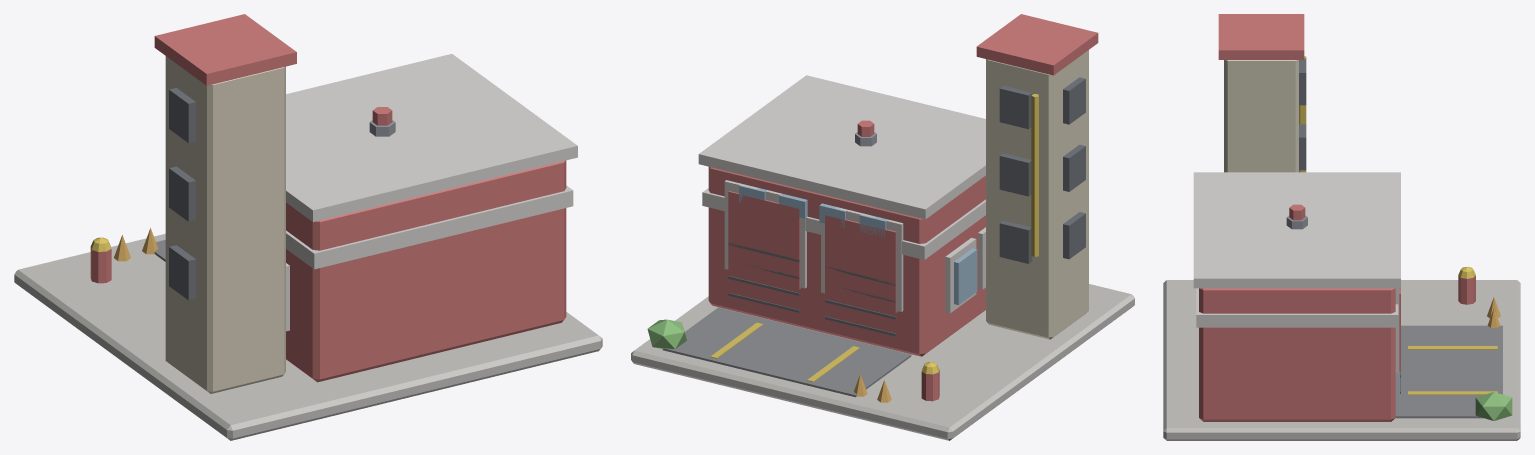
The model's file is publicos__bombeiros.glb.
3 renders of one model, left to right at view 1: azimuth 30°, elevation 25°; view 2: azimuth 150°, elevation 25°; view 3: azimuth 270°, elevation 25°, orthographic. The views are drawn at different scales.
Visible parts, largest first — view 1: publicos__bombeiros; view 2: publicos__bombeiros; view 3: publicos__bombeiros.
Boxes of the visible parts, bbox=[...] form: publicos__bombeiros: bbox=[14, 14, 602, 440]; publicos__bombeiros: bbox=[631, 14, 1134, 440]; publicos__bombeiros: bbox=[1163, 14, 1520, 440].
Size of the model in its own units: 2 by 1.74 by 2.
